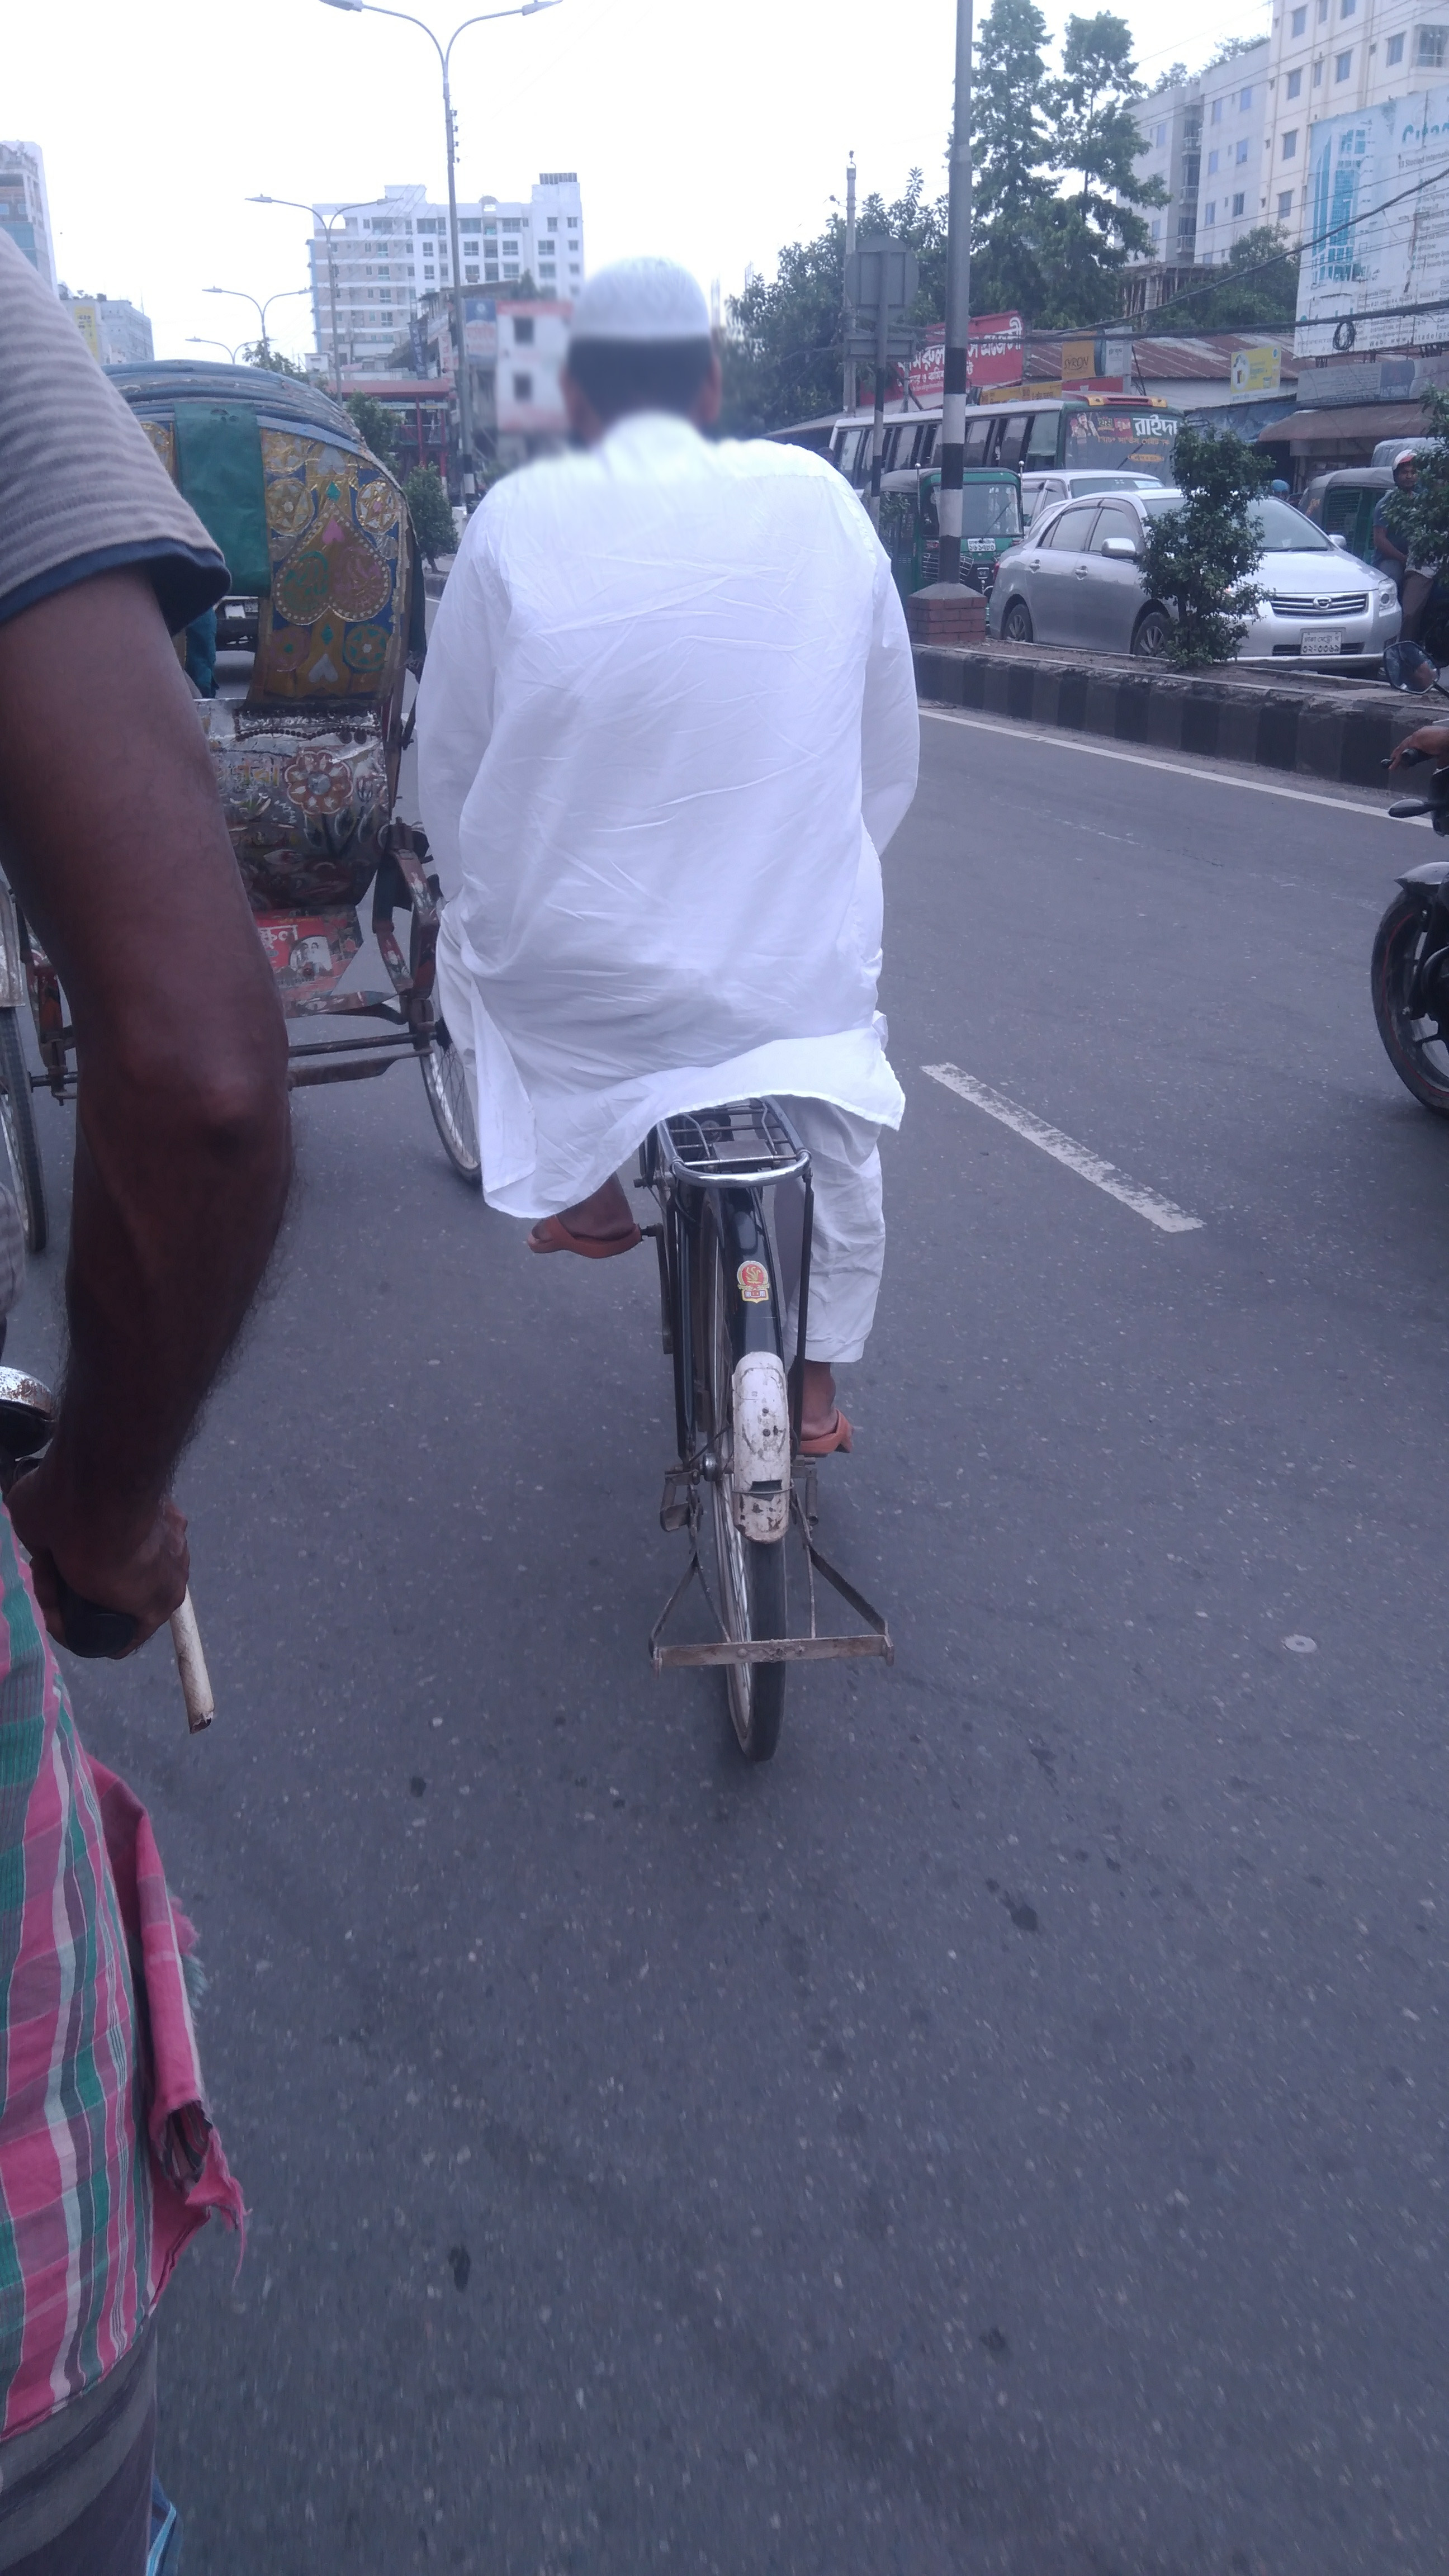bicycle: (628, 1083, 901, 1766)
bike: (1364, 731, 1449, 1115)
bus: (828, 403, 1184, 531)
car: (993, 483, 1399, 671)
rickshaw: (0, 368, 481, 1247)
